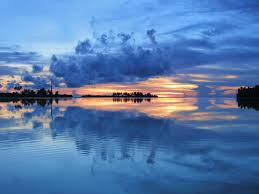sea: (6, 97, 258, 192)
sky: (2, 2, 255, 97)
